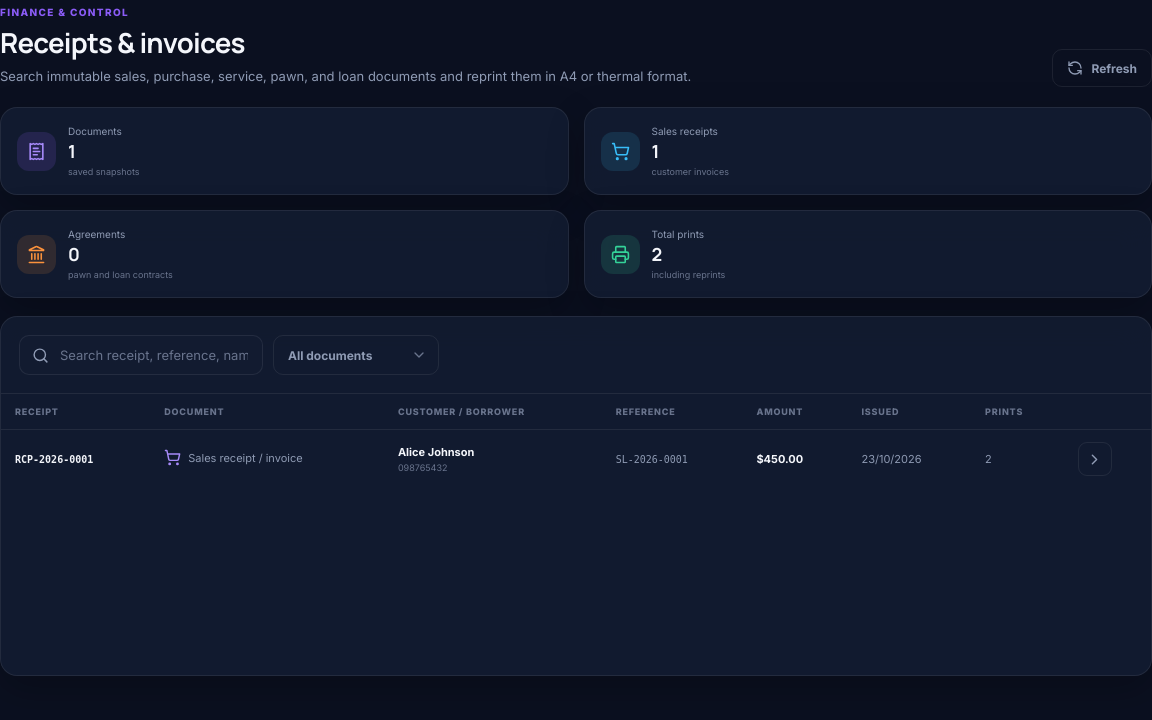
ReceiptCenterPage component › displays role="alert" notice when print API fails
Check: the text "RCP-2026-0001" is shown, box [15, 454, 93, 465]
What coordinates should you click on to do the following:
click the button named "Open receipt RCP-2026-0001"
I would click on:
 (1095, 459)
Its box is [1078, 442, 1112, 476].
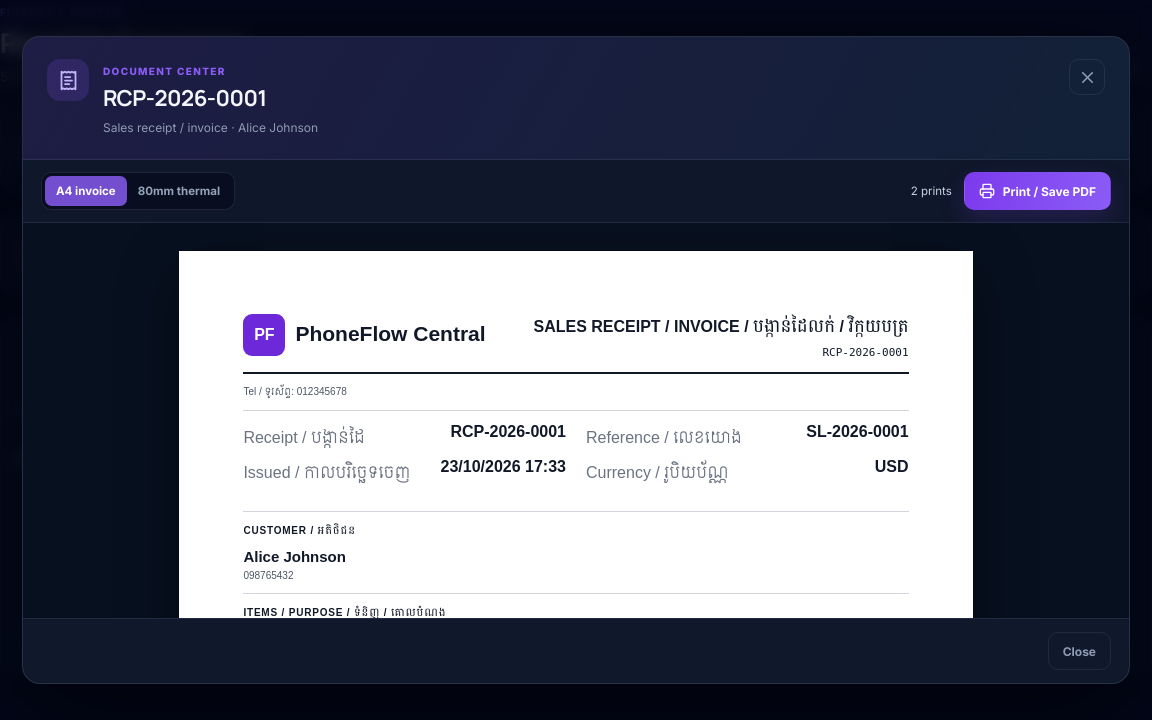
Check: the dialog "RCP-2026-0001" is shown
What coordinates should you click on to do the following:
click the button "Print / Save PDF"
I would click on:
 (1037, 191)
Its box is [964, 172, 1111, 210].
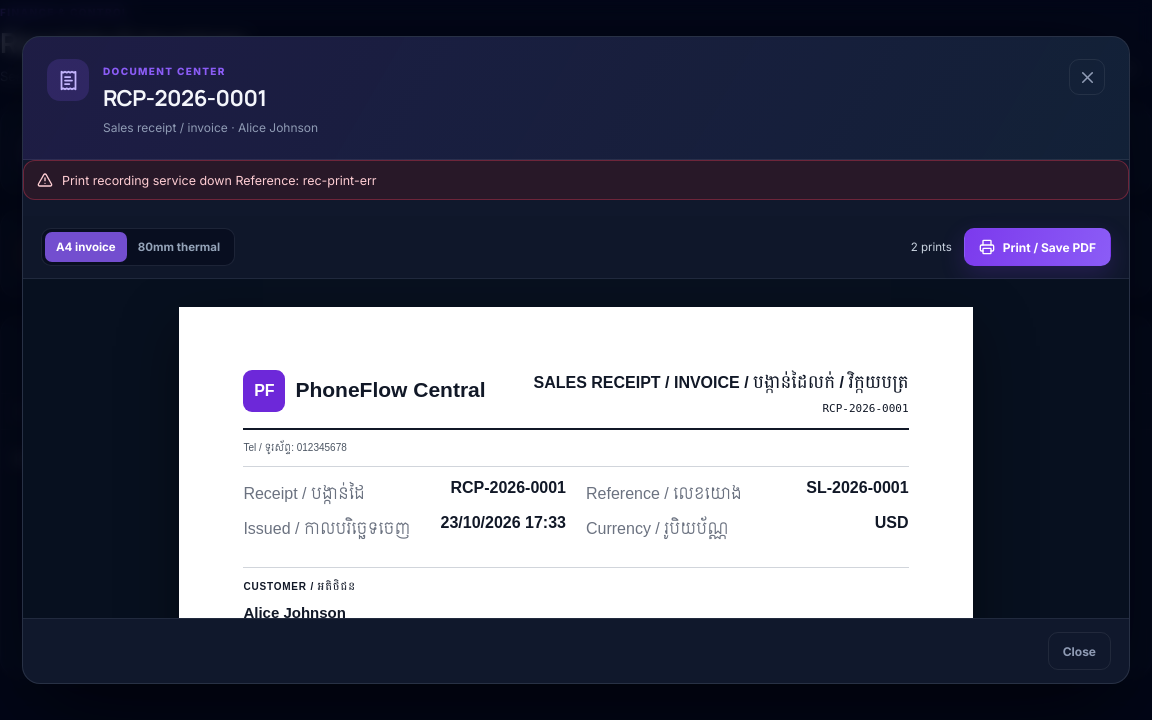
Check: the message shows "Print recording service down", box [62, 173, 376, 188]
